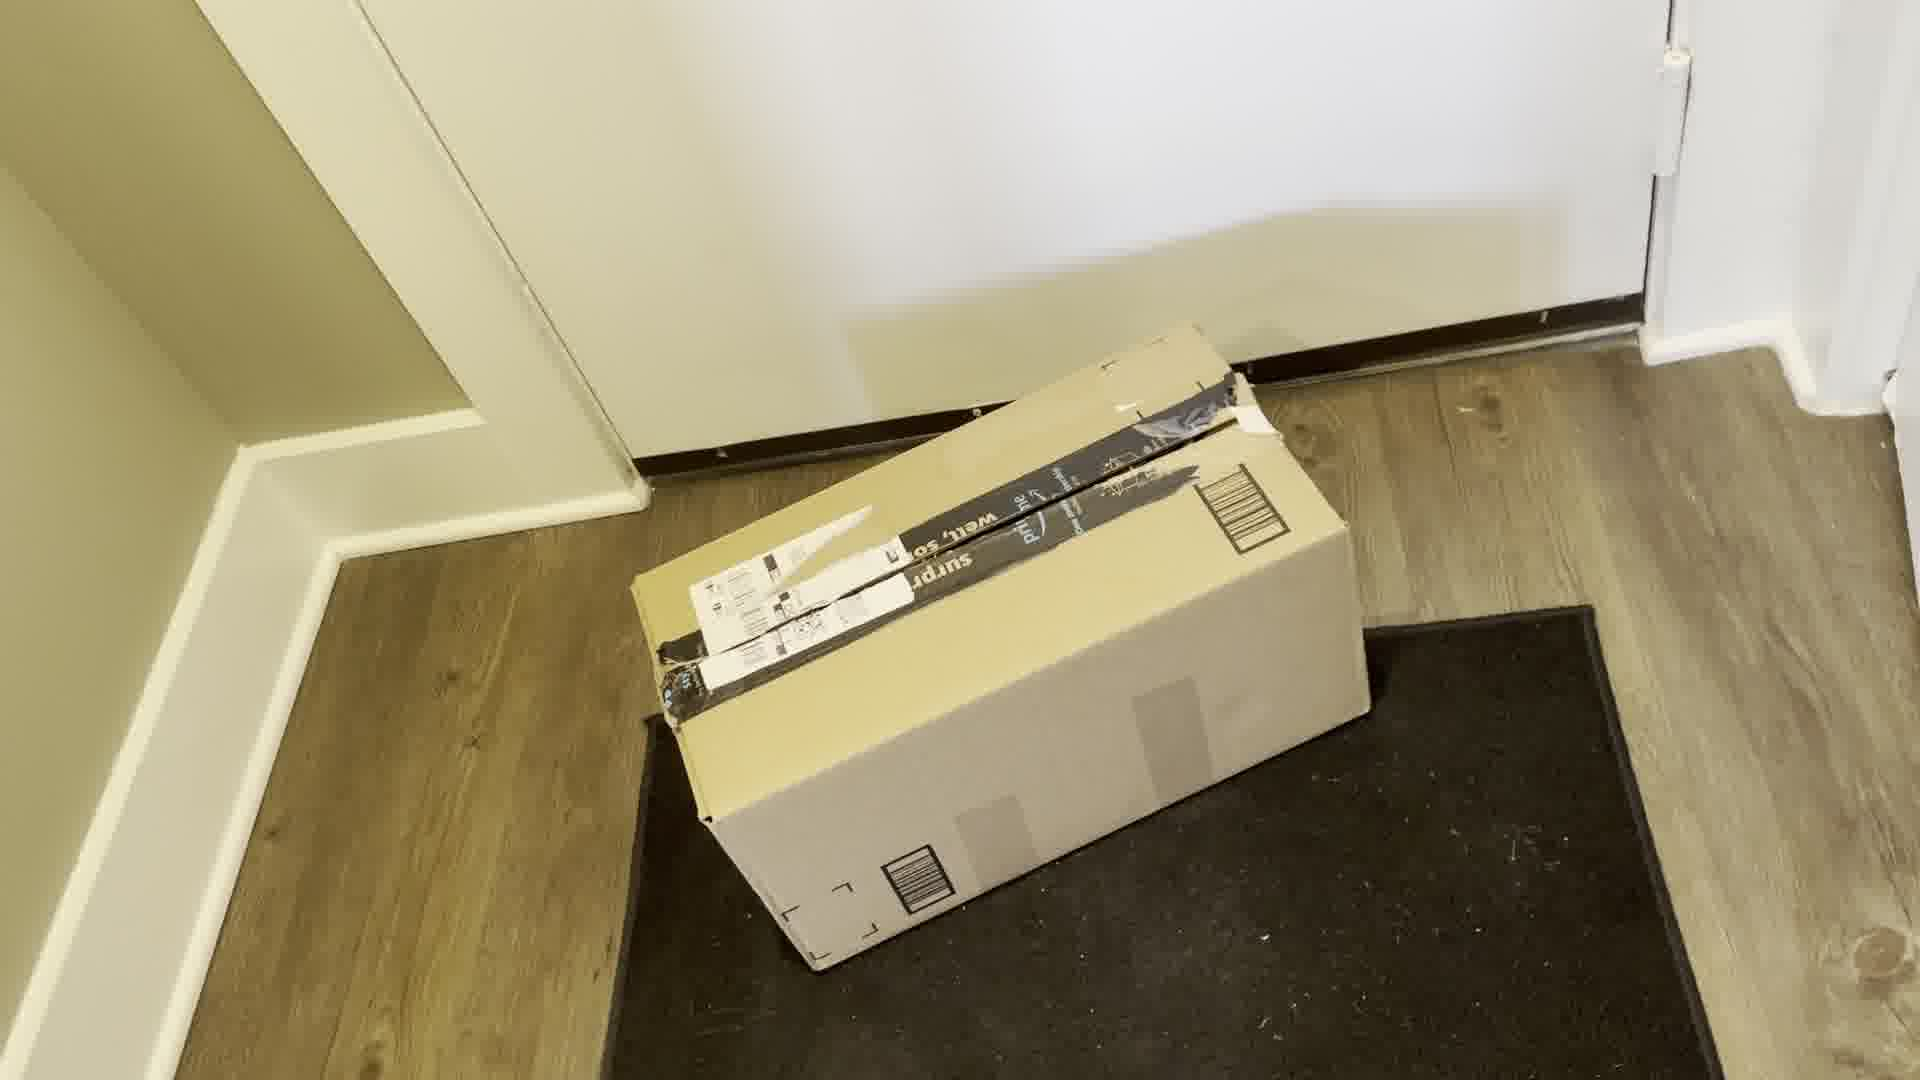box: (587, 294, 1458, 973)
